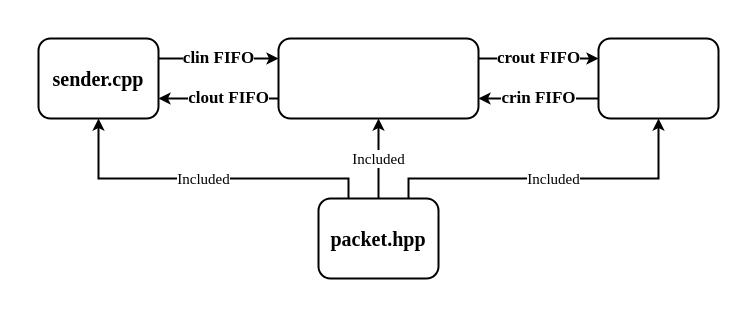
This 756x316 diagram has some shape labels left out. The centre of each missing label's shape, as x and y in pixels:
noise_channel.cpp [Corrupts some random Frames]: point 378,78
receiver.cpp: point 658,78
